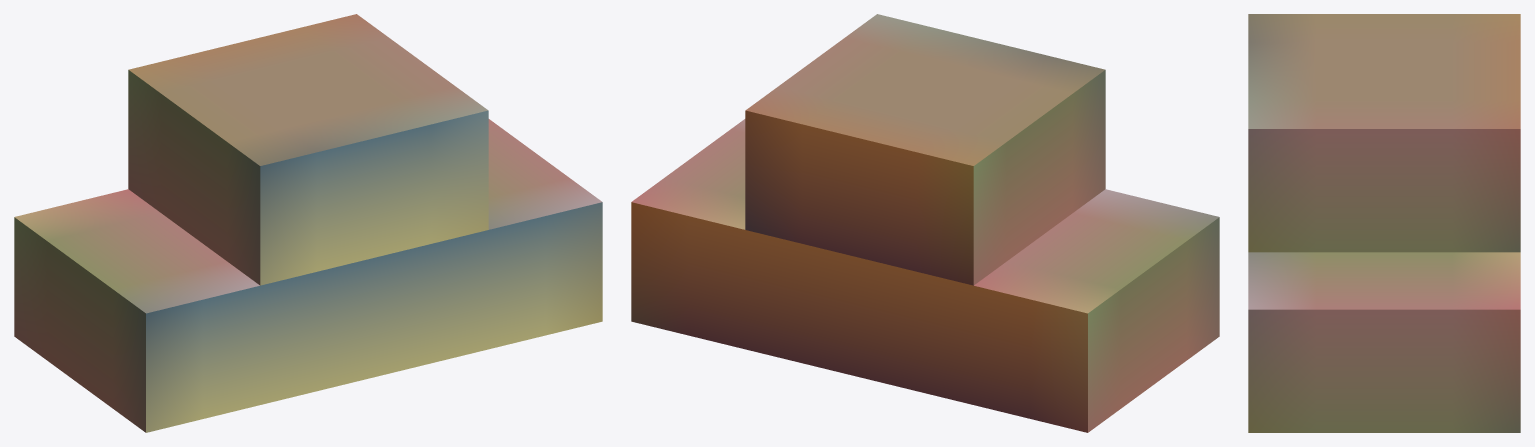
File: BrickToy_00.fbx
3 views of the same model, side by side, from view 1: azimuth 30°, elevation 25°; view 2: azimuth 150°, elevation 25°; view 3: azimuth 270°, elevation 25° (orthographic). The views are drawn at different scales.
Parts seen in each view (by area): view 1: BrickToy_00; view 2: BrickToy_00; view 3: BrickToy_00.
Part boxes in pixels (<box>): BrickToy_00: <box>14,14,602,432</box>; BrickToy_00: <box>631,14,1219,432</box>; BrickToy_00: <box>1248,14,1520,432</box>.
Bounding box in the file's own units: 40 × 20 × 20.
Materials: 1 (1 with a texture image).
